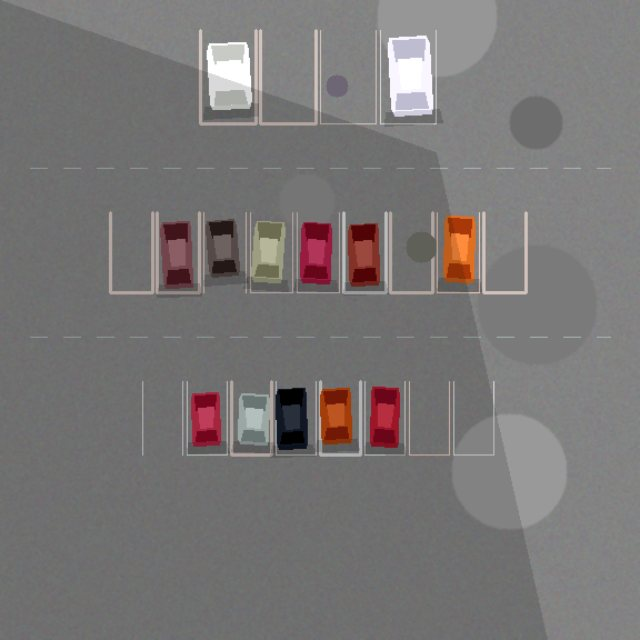space-empty: (260, 30, 316, 123), (320, 30, 376, 123), (483, 212, 526, 292), (110, 212, 152, 292), (390, 212, 432, 292), (142, 381, 182, 454), (409, 381, 449, 454), (453, 381, 493, 454)
space-occupied: (200, 30, 256, 123), (380, 30, 436, 123), (203, 212, 246, 292), (343, 212, 386, 292), (157, 212, 199, 292), (250, 212, 292, 292), (297, 212, 339, 292), (437, 212, 479, 292), (187, 381, 227, 454), (231, 381, 271, 454), (276, 381, 316, 454), (320, 381, 360, 454), (364, 381, 404, 454)
